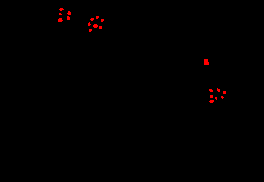Target: (204, 59, 209, 65), (58, 18, 63, 22), (93, 24, 98, 28), (67, 11, 71, 15), (59, 8, 64, 11), (209, 100, 214, 103), (67, 16, 70, 20), (90, 18, 94, 21), (88, 22, 91, 26), (217, 88, 220, 92), (209, 89, 213, 92), (96, 16, 99, 19), (101, 19, 104, 22), (99, 26, 102, 29), (89, 29, 92, 32), (223, 91, 226, 94), (210, 95, 213, 98), (221, 96, 224, 99), (59, 13, 62, 15), (215, 97, 217, 100)
